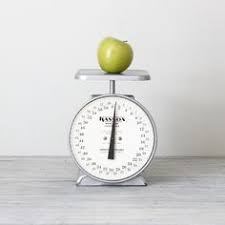Industrial Scale: (67, 68, 159, 190)
